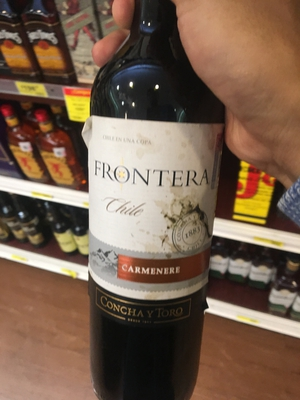frontera carmenere: (76, 15, 232, 400)
